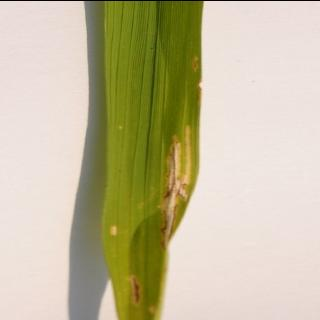Hawar-Daun: (162, 122, 198, 248), (120, 270, 151, 308), (183, 51, 205, 70), (106, 221, 122, 237), (147, 305, 165, 317), (112, 122, 128, 130)
